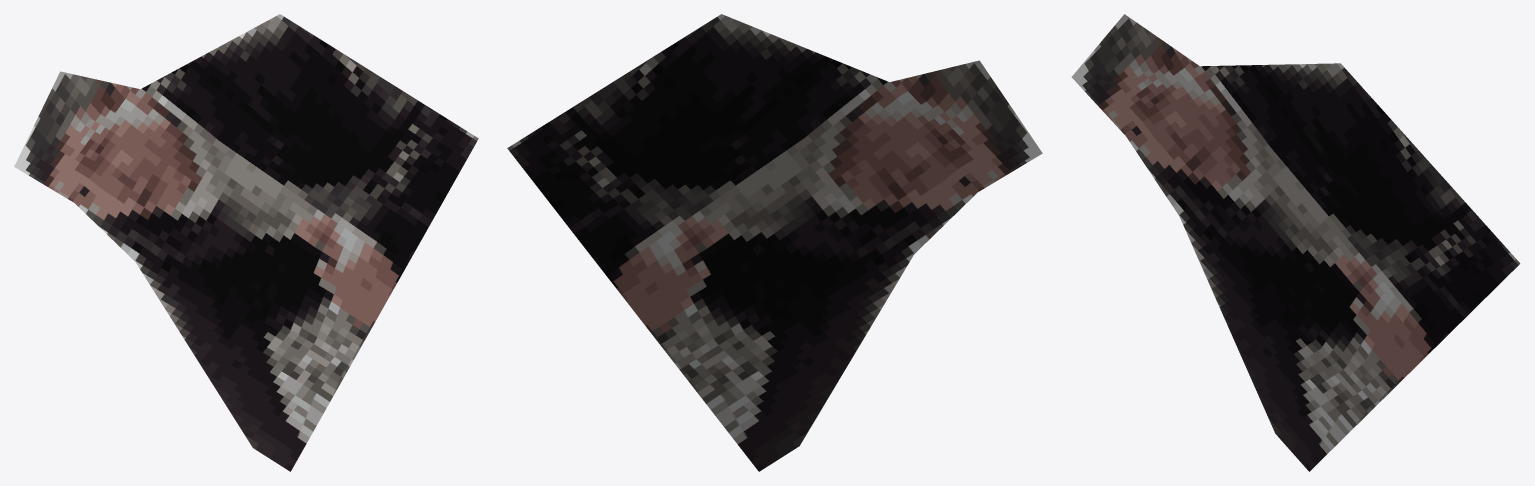
File: 4etko.fbx
3 views of the same model, side by side, from view 1: azimuth 30°, elevation 25°; view 2: azimuth 150°, elevation 25°; view 3: azimuth 330°, elevation 25° (orthographic). The views are drawn at different scales.
Parts seen in each view (by area): view 1: 4etko; view 2: 4etko; view 3: 4etko.
Boxes of the visible parts, box(x1,y1,x2,y2) form: 4etko: box(14, 14, 478, 471); 4etko: box(507, 14, 1042, 471); 4etko: box(1071, 14, 1520, 471).
Bounding box in the file's own units: 149 × 132 × 12.22.
